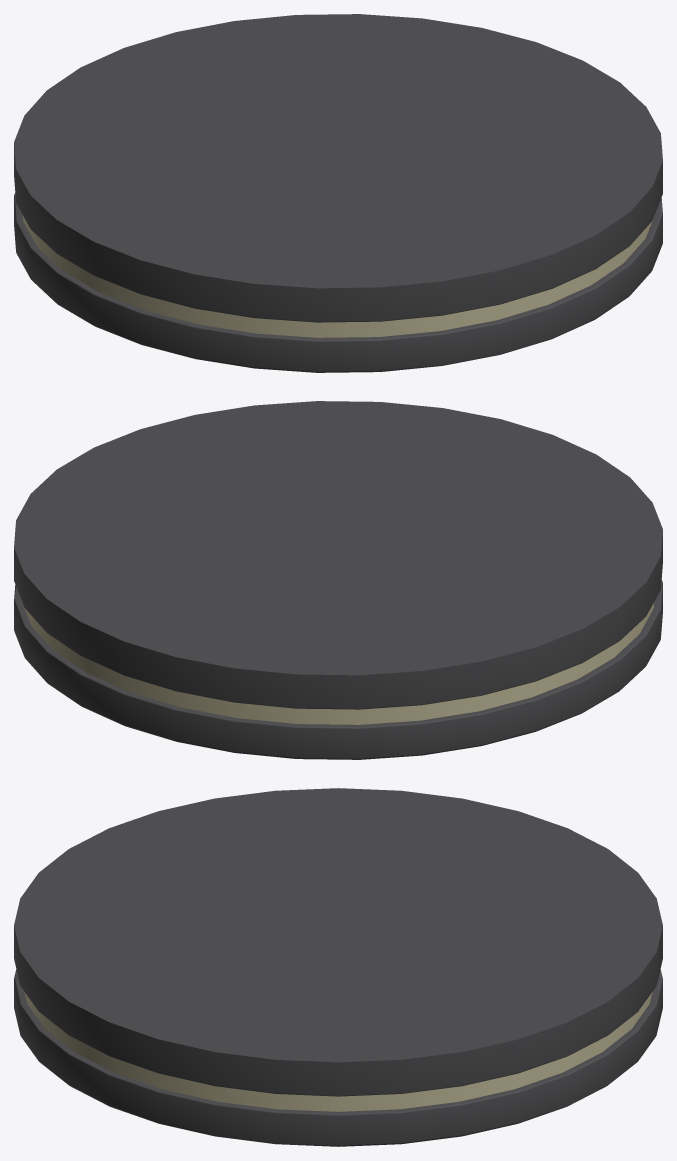
The picture shows the model from 3 angles, top to bottom: view 1: azimuth 30°, elevation 25°; view 2: azimuth 150°, elevation 25°; view 3: azimuth 270°, elevation 25°; orthographic projection.
Parts seen in each view (by area): view 1: lamp_01; view 2: lamp_01; view 3: lamp_01.
Part boxes in pixels (x1,y1,x2,y2): lamp_01: (14, 14, 662, 372); lamp_01: (14, 401, 662, 759); lamp_01: (14, 788, 662, 1146).
Bounding box in the file's own units: 2 × 0.2904 × 2.
